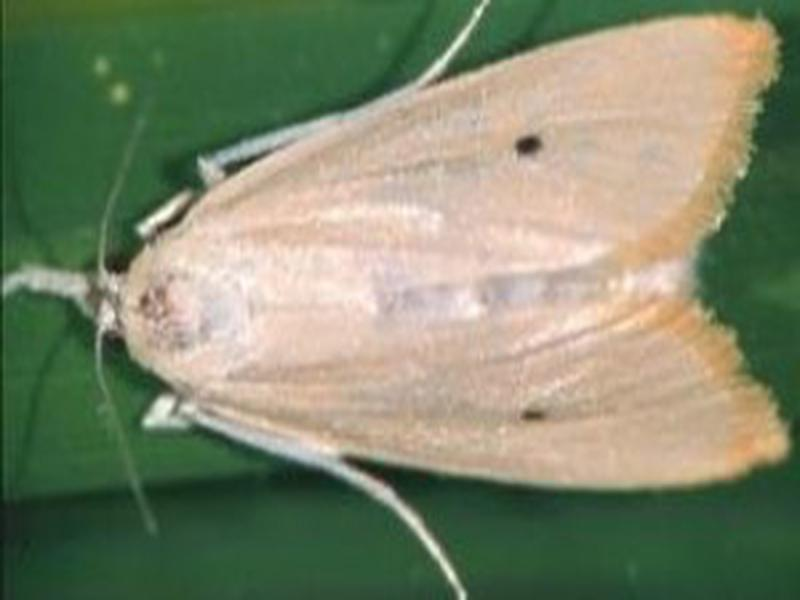Rice_skipper: (110, 13, 787, 499)
